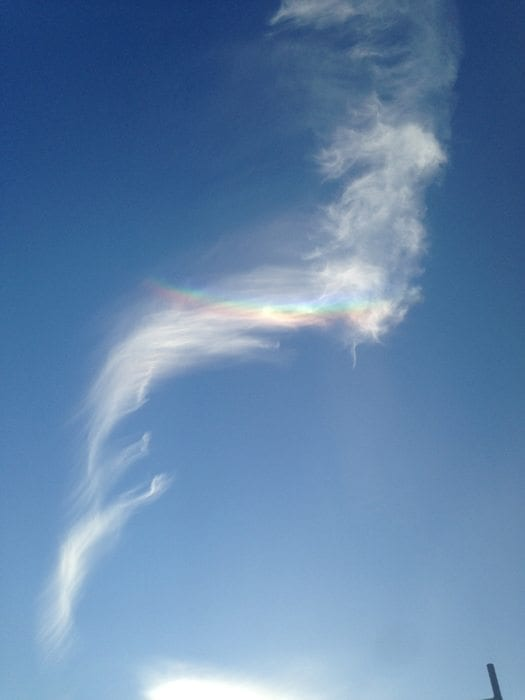Cirrus: (47, 4, 468, 656)
